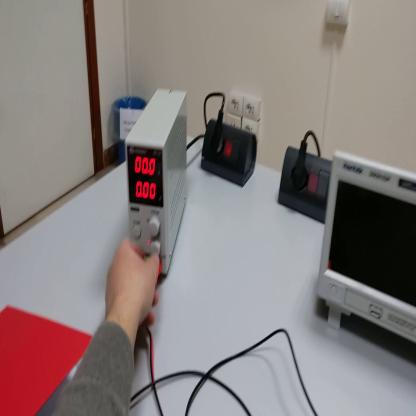hand: (105, 240, 161, 325)
oscilloscope: (316, 153, 416, 347)
power supply: (122, 92, 186, 279)
register: (1, 305, 93, 414)
socket: (279, 147, 333, 226), (202, 119, 259, 188)
